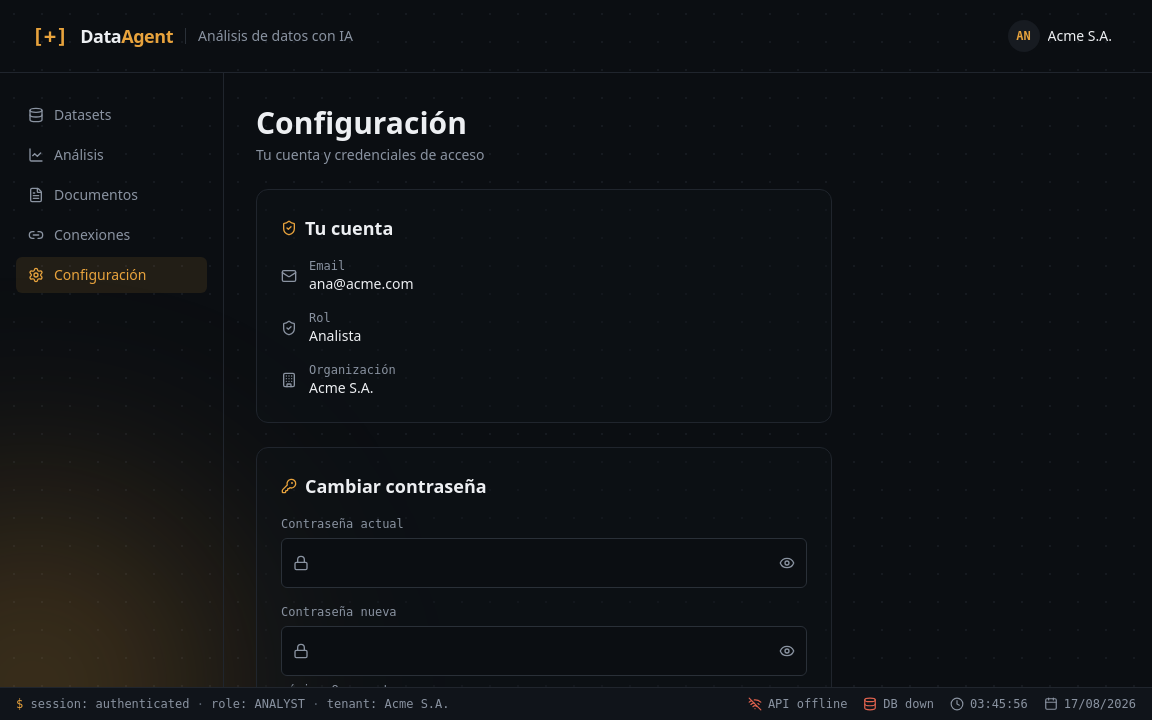
Test: SettingsPage › shows the backend error when the current password is incorrect
Expected: the text "ana@acme.com" is shown, [309,274,414,294]
Type "wrongpassword" into the password field labelled "Contraseña actual" at (544, 563), box [281,538,807,588]
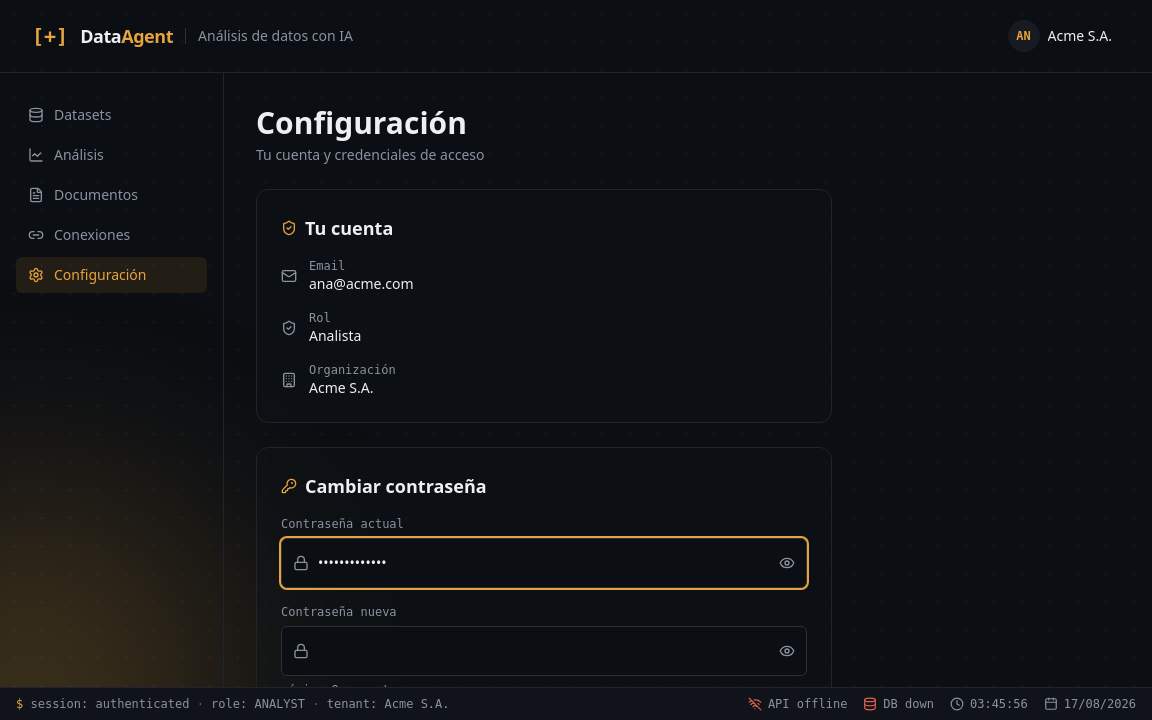
Type "newpassword123" into the password field labelled "Contraseña nueva" at (544, 651), box [281,626,807,676]
(page scrolled)
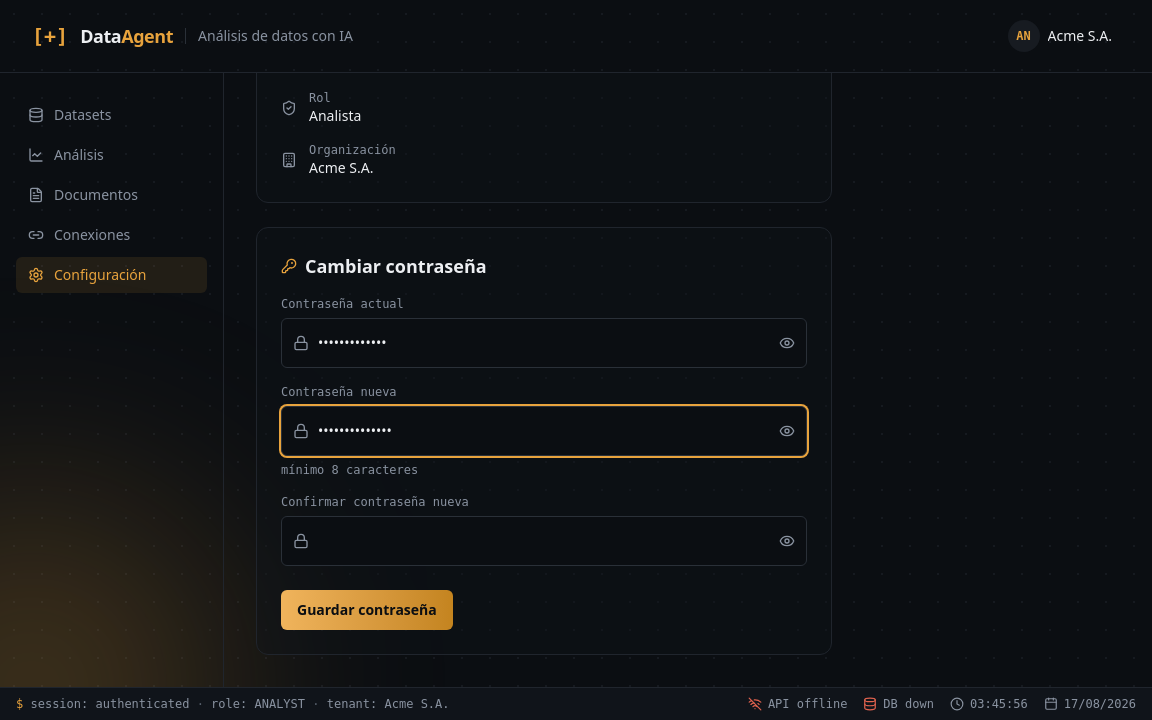
Type "newpassword123" into the password field labelled "Confirmar contraseña nueva" at (544, 541), box [281,516,807,566]
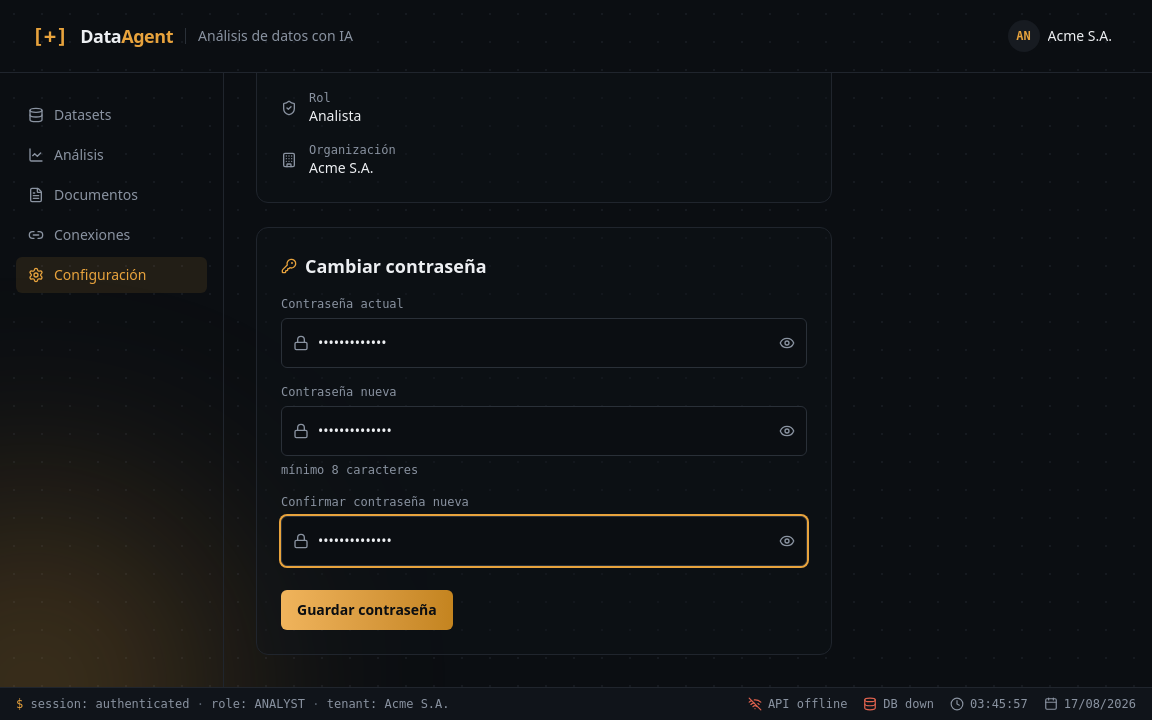
Click the button "Guardar contraseña" at (367, 610), box [281,590,453,630]
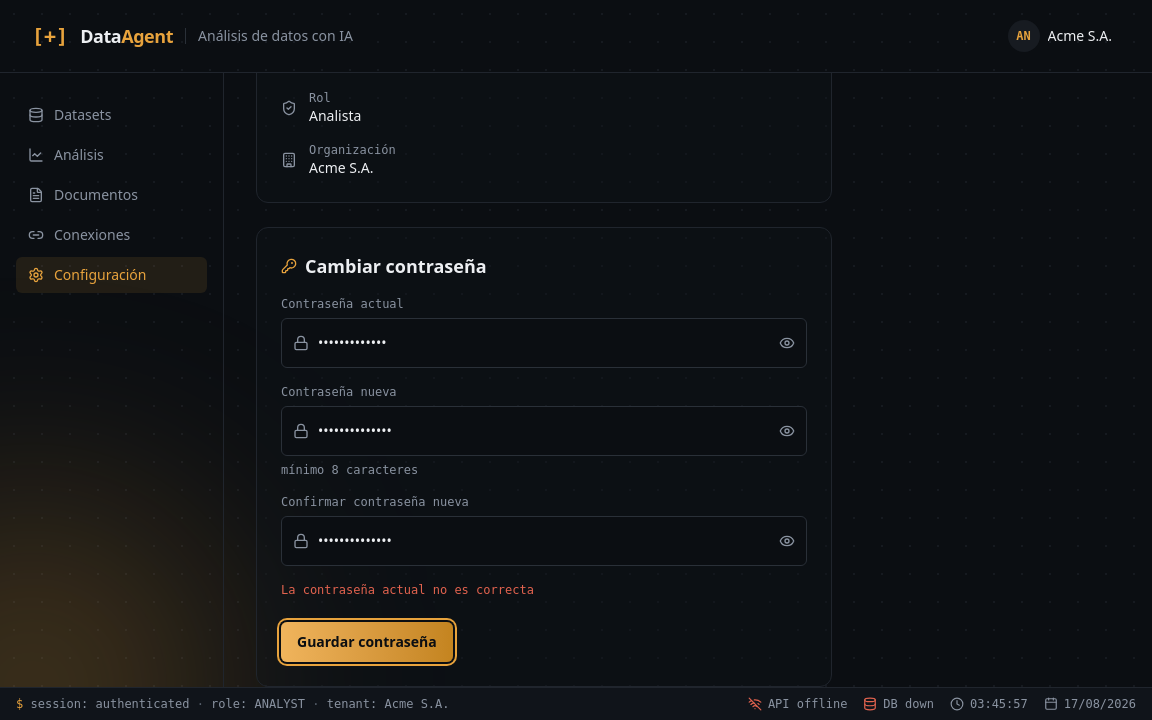
Now the message reads "La contraseña actual no es correcta", box [281,583,534,597]
